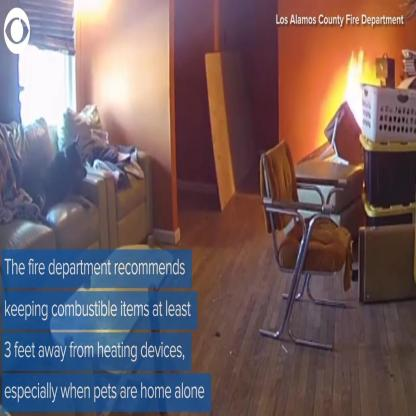fire: (345, 48, 382, 132)
